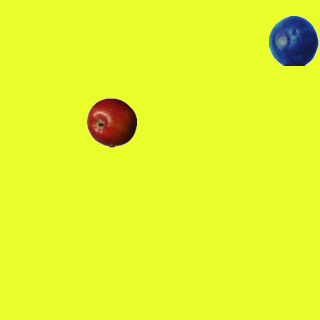Apple Braeburn: (86, 97, 136, 147)
Huckleberry: (268, 15, 318, 65)
